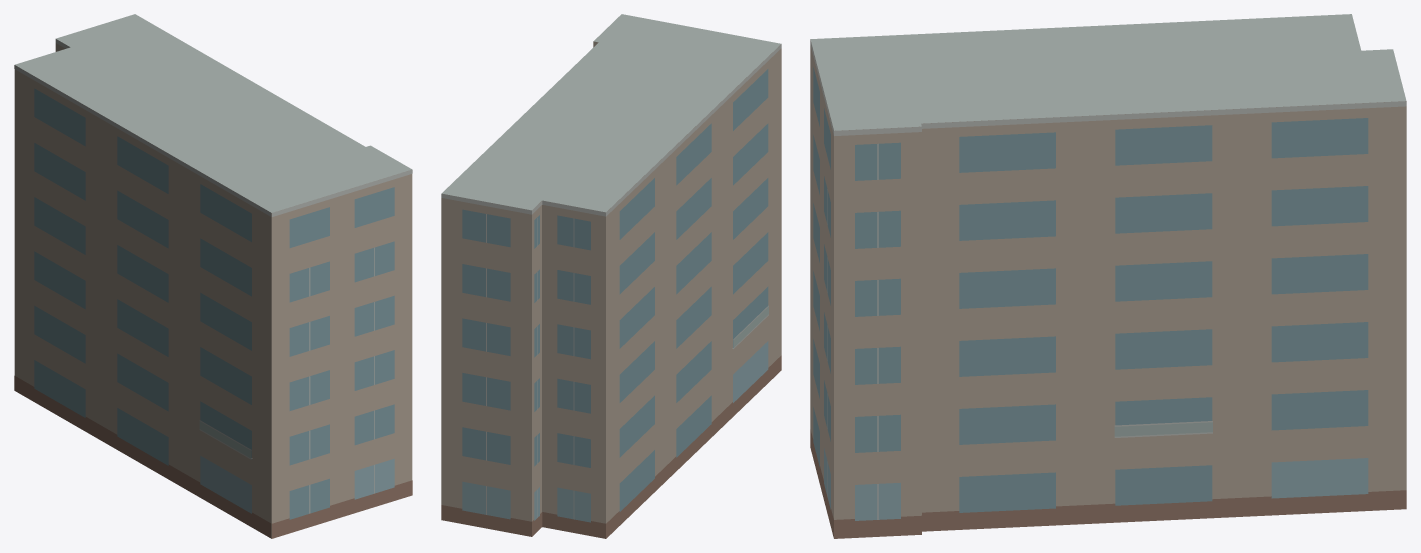
The model's file is survey-upis-32628596.glb.
The picture shows the model from 3 angles, left to right: view 1: azimuth 30°, elevation 25°; view 2: azimuth 150°, elevation 25°; view 3: azimuth 270°, elevation 25°; orthographic projection. The views are drawn at different scales.
Visible parts, largest first — view 1: survey-upis-32628596.tmp; view 2: survey-upis-32628596.tmp; view 3: survey-upis-32628596.tmp.
Part boxes in pixels (x1,y1,x2,y2): survey-upis-32628596.tmp: (14,14,412,538); survey-upis-32628596.tmp: (441,14,781,538); survey-upis-32628596.tmp: (810,14,1406,538).
Bounding box in the file's own units: 11.43 × 18.6 × 24.64.
